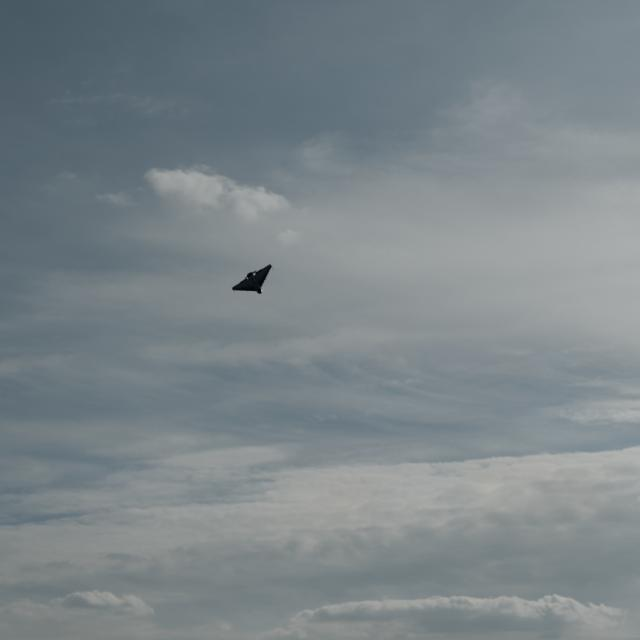Airaplan: (232, 263, 274, 294)
